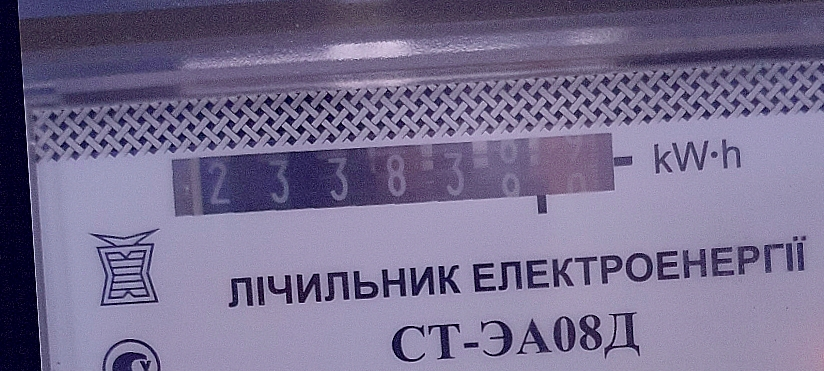0: (562, 167, 589, 193)
2: (202, 156, 233, 207)
3: (263, 154, 293, 206), (324, 152, 351, 204), (439, 147, 467, 196)
8: (381, 150, 409, 197), (493, 137, 523, 165)
9: (495, 167, 523, 198), (560, 132, 586, 162)
screen: (157, 117, 634, 239)
